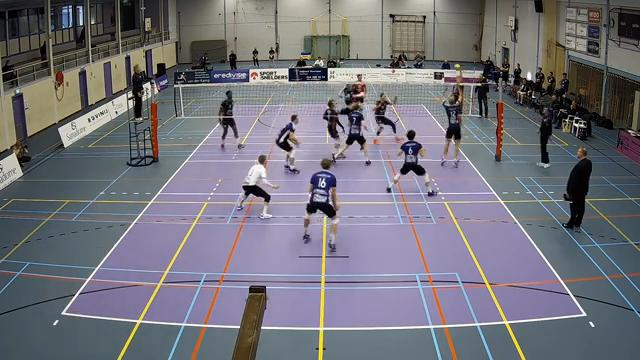attacco: (447, 74, 467, 134)
muro: (435, 77, 463, 169)
